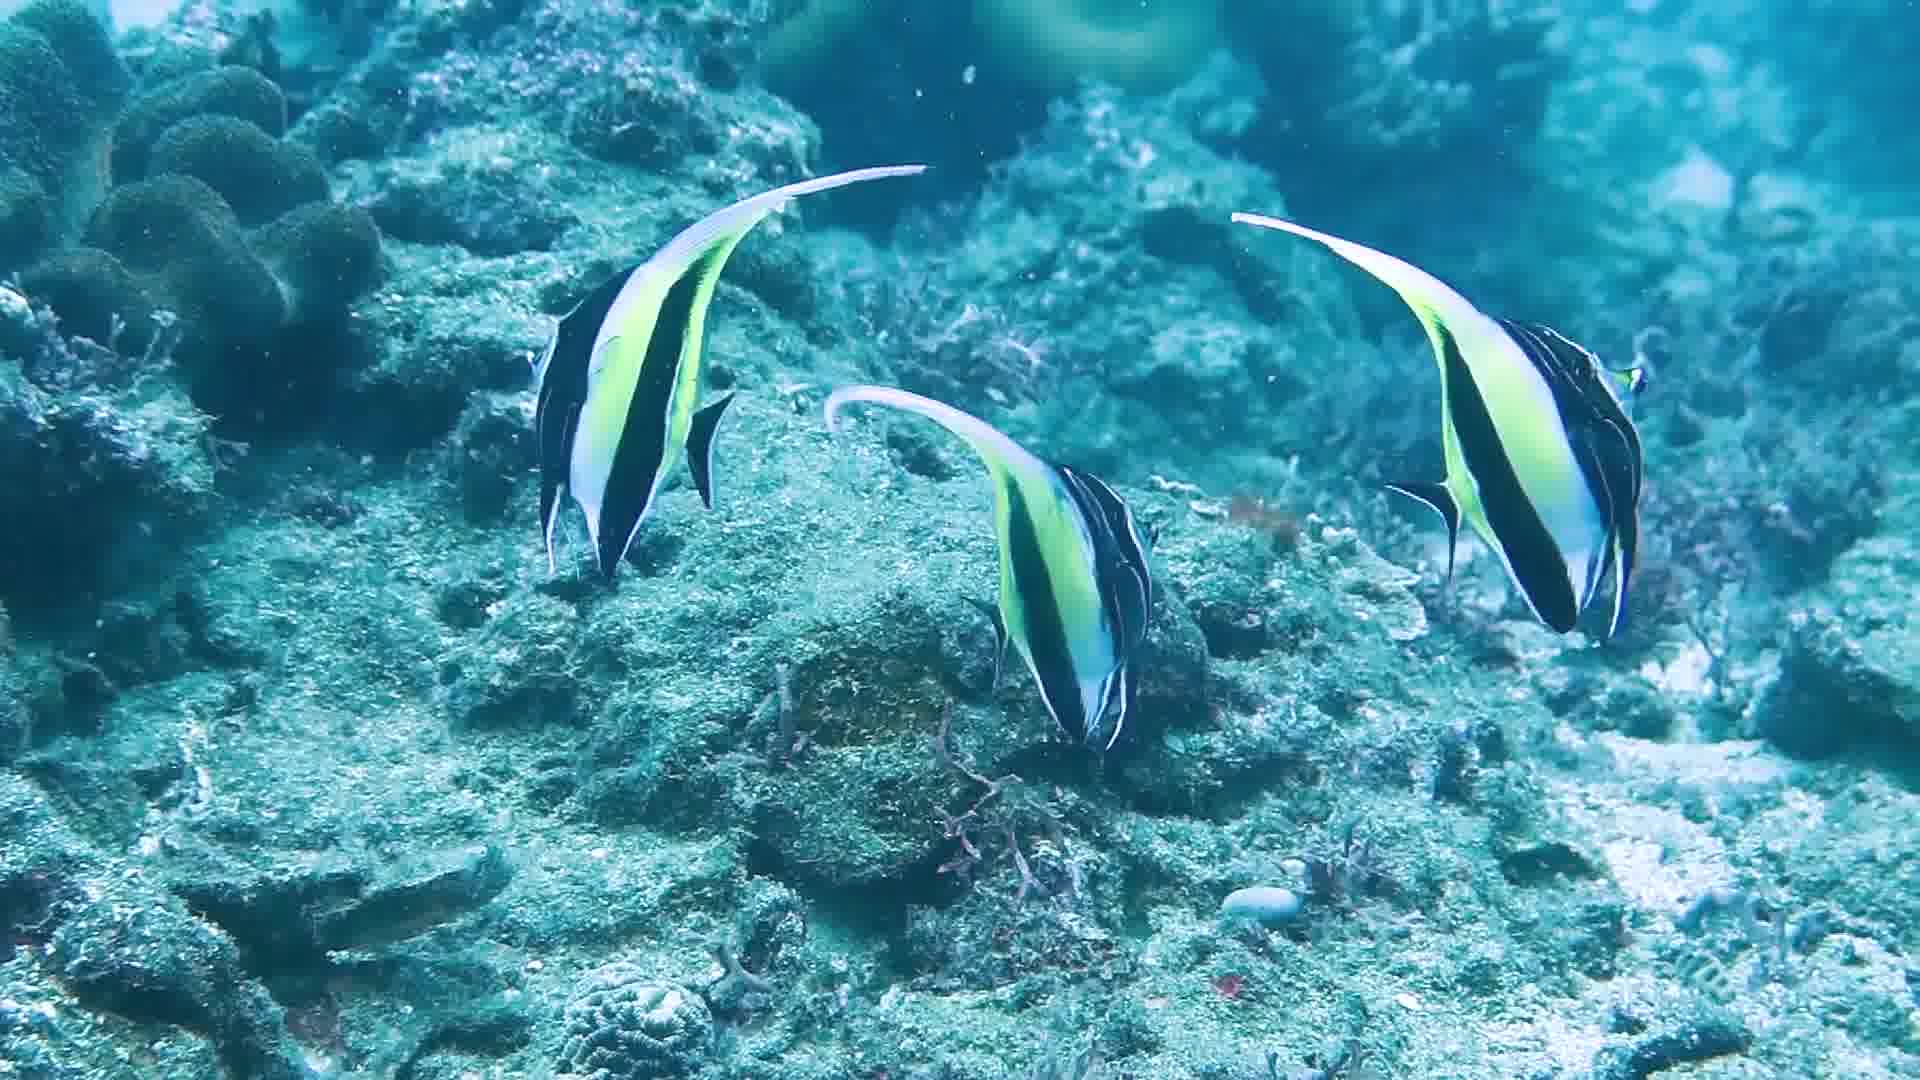Zanclus cornutus: (1344, 225, 1669, 642), (922, 425, 1205, 767), (520, 214, 738, 587)
